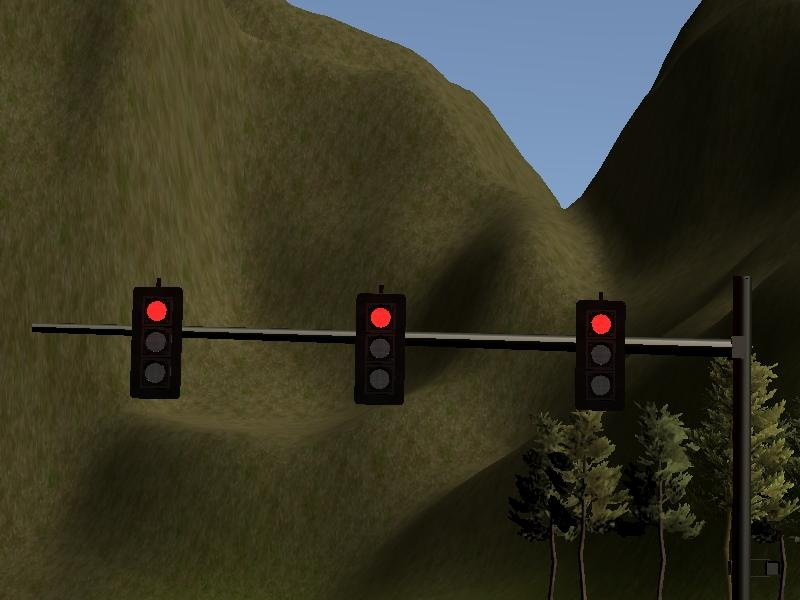red: (125, 276, 188, 405), (349, 282, 409, 413), (569, 292, 629, 414)
